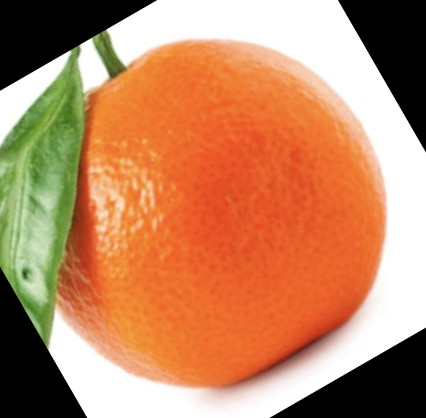fresh_orange: (39, 40, 388, 385)
